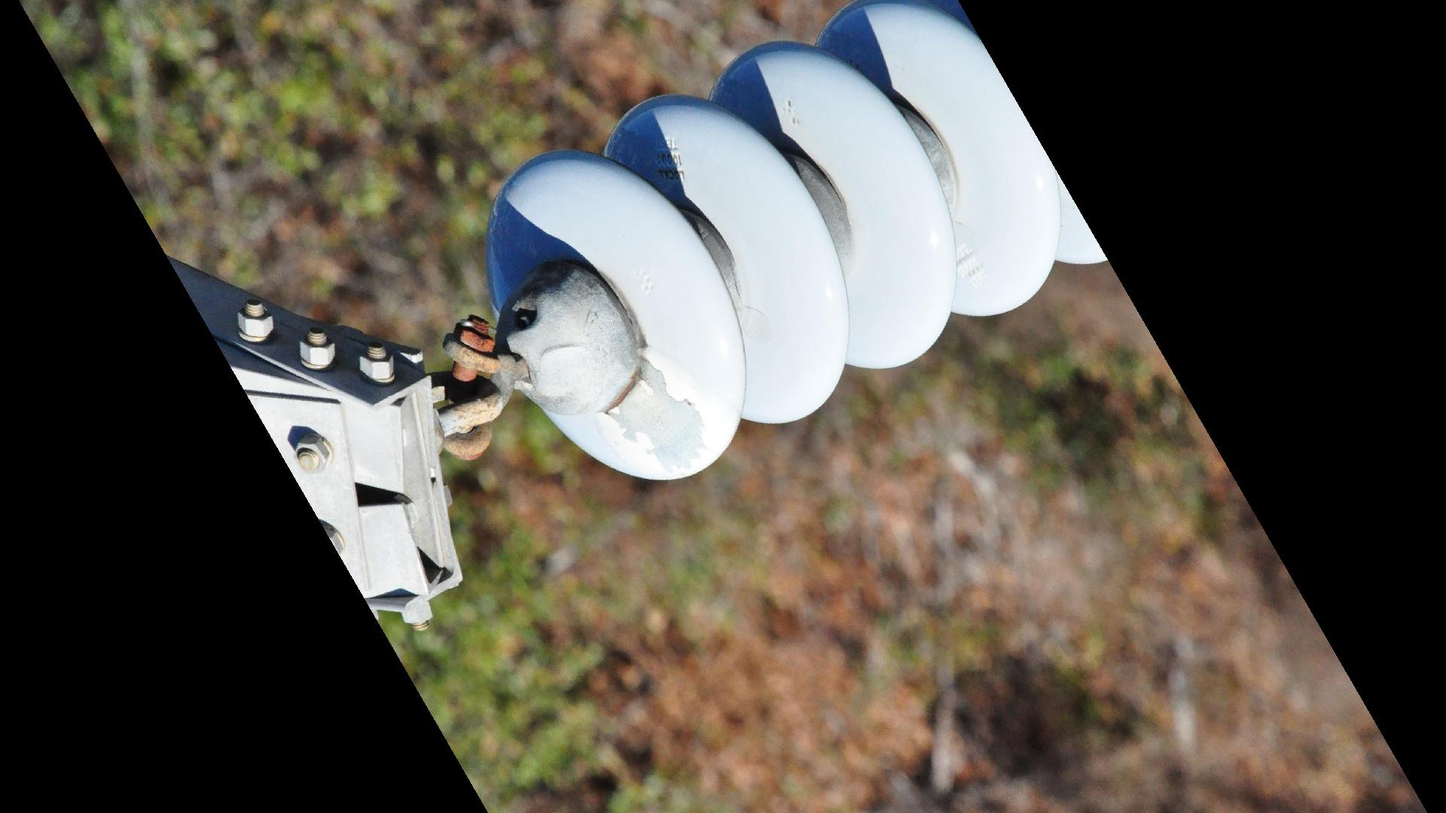insulator: (476, 1, 1115, 489)
insulator_flashover: (606, 357, 711, 481)
